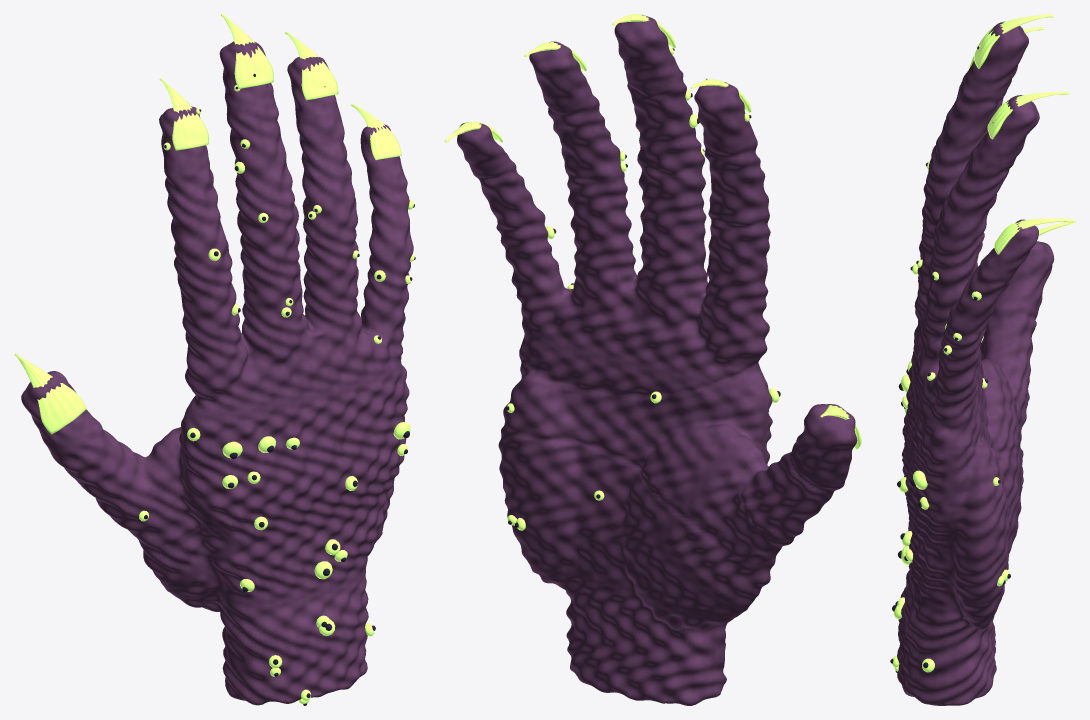
File: family-12.glb
3 views of the same model, side by side, from view 1: azimuth 30°, elevation 25°; view 2: azimuth 150°, elevation 25°; view 3: azimuth 270°, elevation 25° (orthographic). The views are drawn at different scales.
Parts seen in each view (by area): view 1: fingers__fingers_sculpt, back_of_hand__back_of_hand_sculpt, wrist__wrist_sculpt, fingertips__fingertips_sculpt, back_of_hand, palm__palm_sculpt, nails__thumb_claw, nails__middle_claw, nails__index_claw, nails__ring_claw, fingers, nails__pinky_claw (+1 smaller); view 2: fingers__fingers_sculpt, palm__palm_sculpt, wrist__wrist_sculpt, fingertips__fingertips_sculpt; view 3: fingers__fingers_sculpt, palm__palm_sculpt, wrist__wrist_sculpt, back_of_hand__back_of_hand_sculpt, fingertips__fingertips_sculpt, back_of_hand, nails__middle_claw, nails__ring_claw, nails__pinky_claw, fingers, wrist.
Part boxes in pixels (x1,y1,x2,y2): fingers__fingers_sculpt: (50, 100, 413, 586); back_of_hand__back_of_hand_sculpt: (183, 362, 409, 604); wrist__wrist_sculpt: (174, 554, 369, 705); fingertips__fingertips_sculpt: (21, 41, 403, 452); back_of_hand: (187, 421, 410, 592); palm__palm_sculpt: (164, 405, 394, 597); nails__thumb_claw: (14, 353, 86, 434); nails__middle_claw: (221, 14, 273, 88); nails__index_claw: (159, 78, 208, 150); nails__ring_claw: (285, 31, 338, 100); fingers: (139, 139, 415, 521); nails__pinky_claw: (350, 103, 401, 160); fingers__fingers_sculpt: (470, 67, 847, 607); palm__palm_sculpt: (498, 331, 767, 617); wrist__wrist_sculpt: (530, 564, 739, 705); fingertips__fingertips_sculpt: (457, 15, 857, 483); fingers__fingers_sculpt: (912, 71, 1038, 493); palm__palm_sculpt: (949, 349, 1021, 620); wrist__wrist_sculpt: (897, 570, 996, 705); back_of_hand__back_of_hand_sculpt: (902, 355, 950, 609); fingertips__fingertips_sculpt: (967, 21, 1054, 311); back_of_hand: (897, 361, 929, 564); nails__middle_claw: (974, 14, 1053, 68); nails__ring_claw: (987, 91, 1069, 139); nails__pinky_claw: (994, 218, 1075, 254); fingers: (910, 96, 981, 380); wrist: (890, 597, 934, 672).
Bounding box in the file's own units: 0.1314 × 0.2211 × 0.0567.
Materials: 3 (1 with a texture image).
